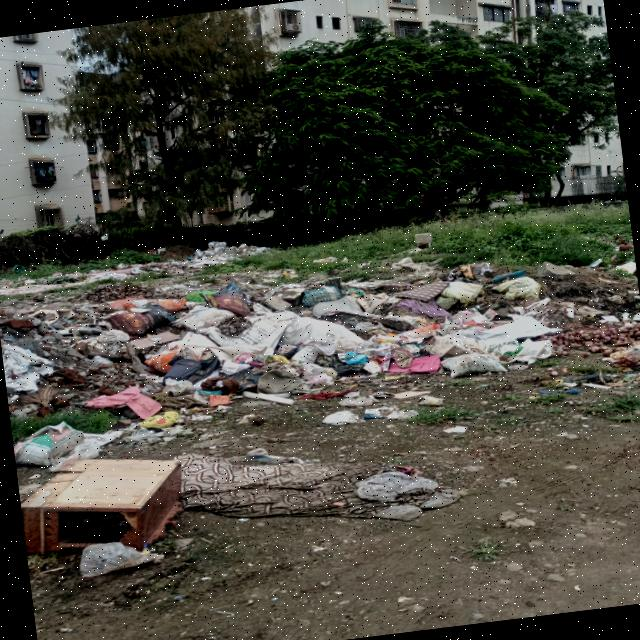garbage: (0, 236, 547, 443), (13, 402, 396, 588)
